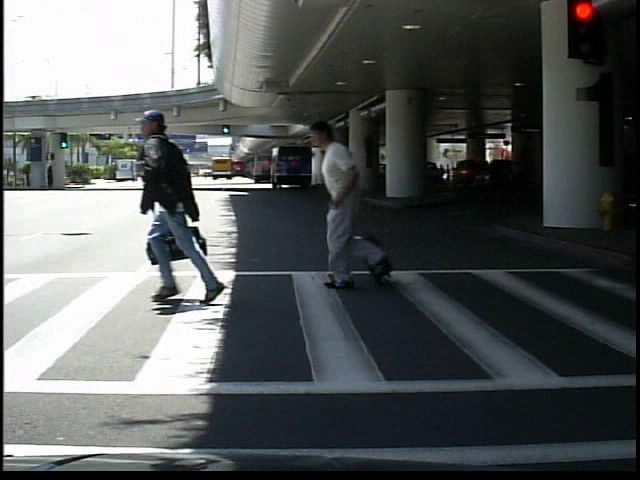person: (137, 114, 223, 308), (320, 113, 387, 290)
